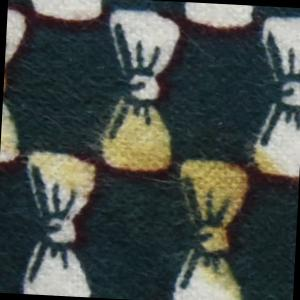Stain: (1, 95, 300, 300)
